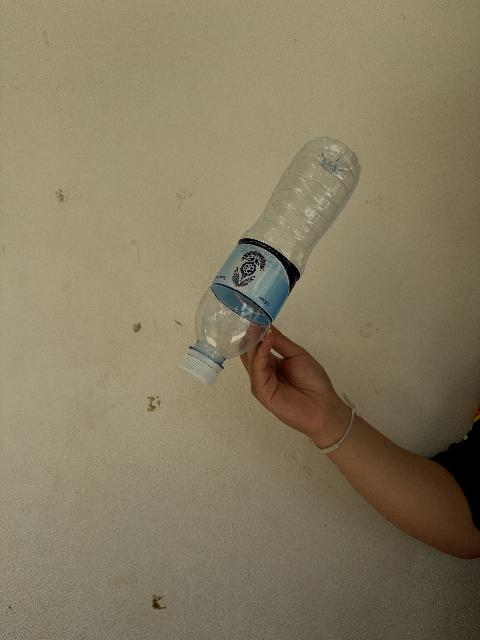bottle: (180, 138, 360, 385)
